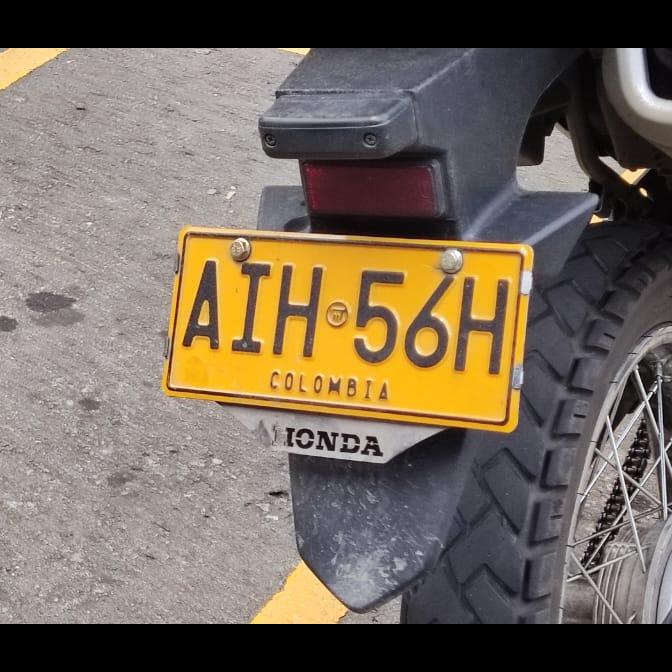plates: (162, 228, 533, 436)
